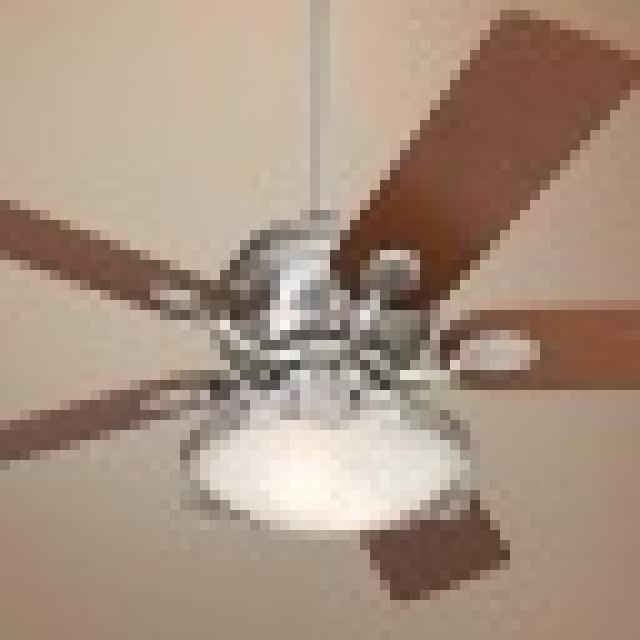Bulb: (19, 44, 640, 586)
